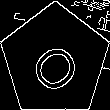O_NE: (23, 28, 87, 94)
